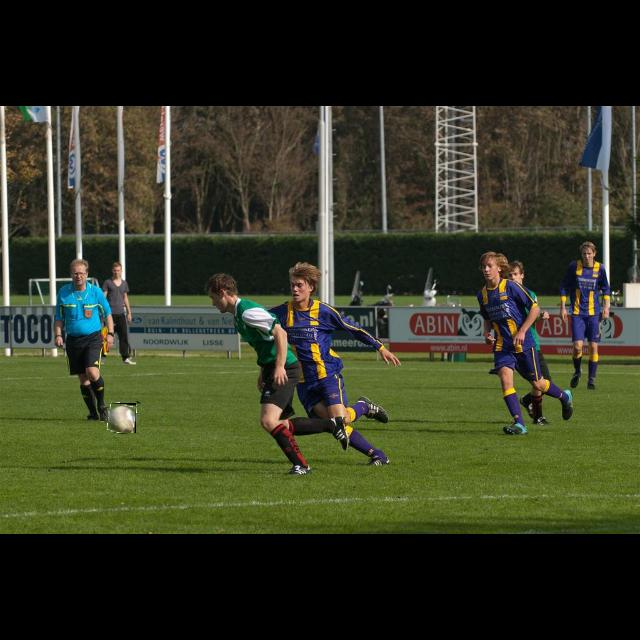Football: (108, 403, 136, 433)
